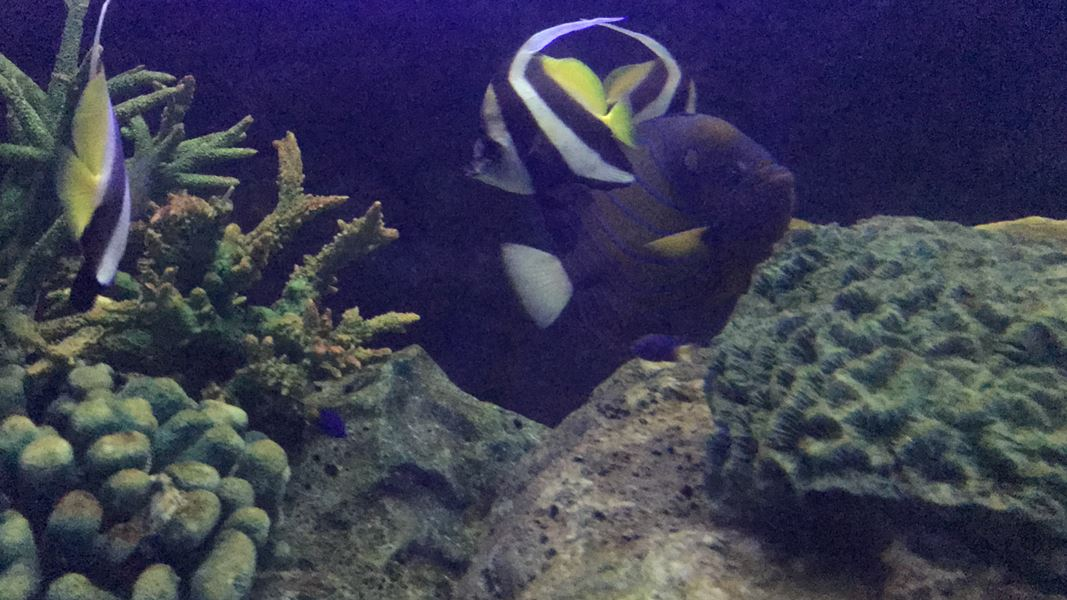Blue ring angelfish: (509, 108, 800, 365)
